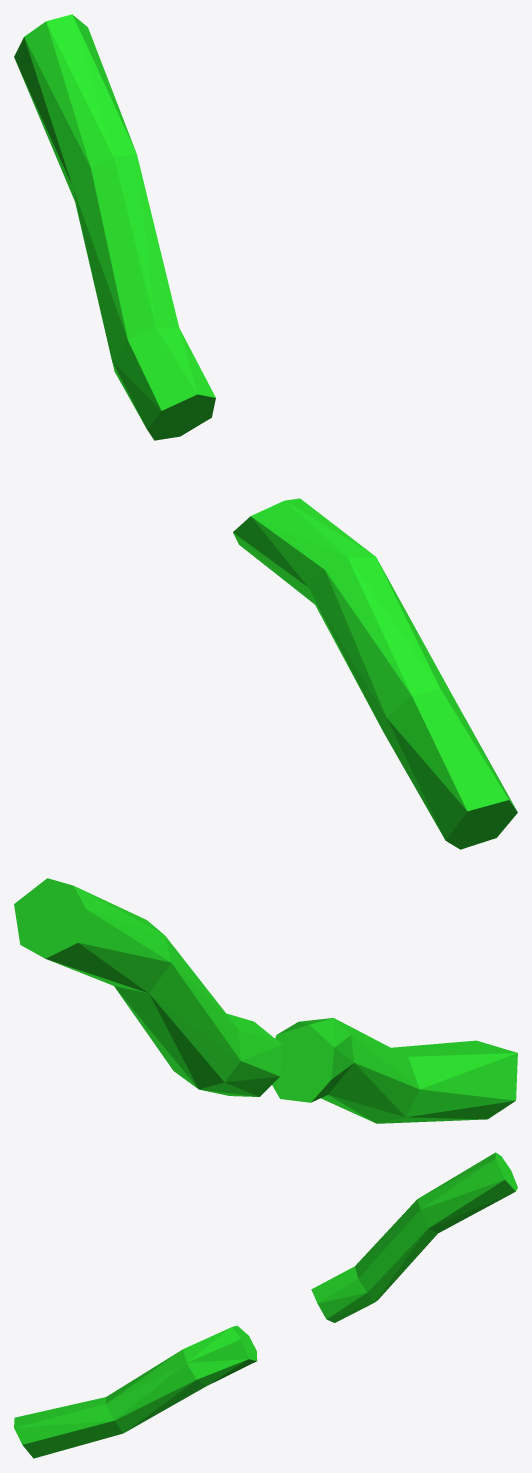
File: greenCut.fbx
3 views of the same model, one above another, from view 1: azimuth 30°, elevation 25°; view 2: azimuth 150°, elevation 25°; view 3: azimuth 270°, elevation 25° (orthographic). The views are drawn at different scales.
Visible parts, largest first — view 1: green; view 2: green; view 3: green.
Boxes of the visible parts, x1=… form: green: x1=14, y1=14, x2=517, y2=849; green: x1=14, y1=878, x2=517, y2=1123; green: x1=14, y1=1152, x2=517, y2=1458.
Size of the model in its own units: 8.87 by 37.88 by 58.01.
